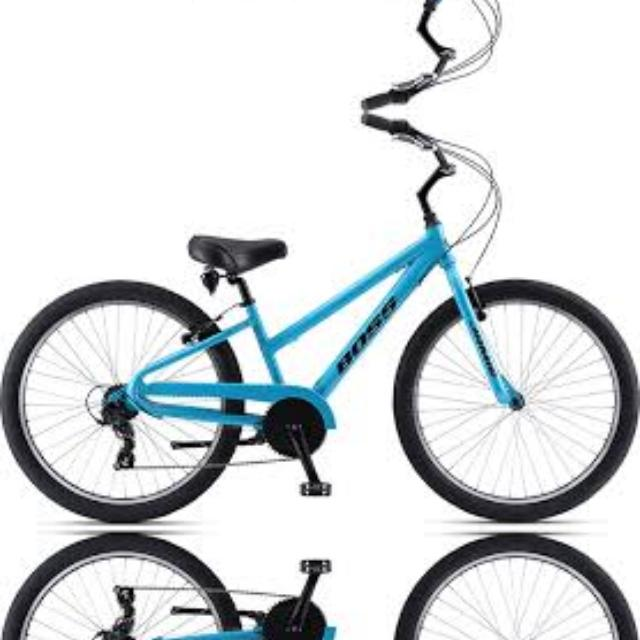obstacle: (2, 116, 640, 528), (2, 528, 640, 640), (2, 0, 640, 106)
